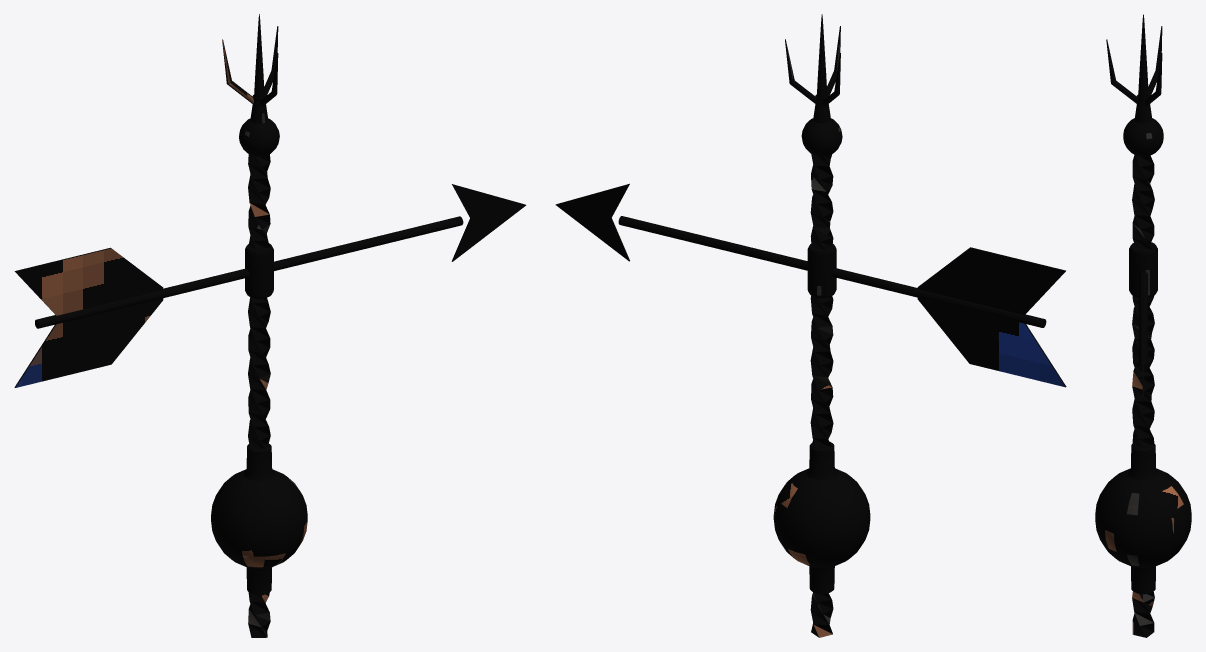
Rendered from upper.obj.
3 views of the same model, side by side, from view 1: azimuth 30°, elevation 25°; view 2: azimuth 150°, elevation 25°; view 3: azimuth 270°, elevation 25° (orthographic).
Visible parts, largest first — view 1: arrow_tail, ball, rod_upper, arrow_shaft, arrow_head, vane_collar, knob, sleeve_1, rod_mid; view 2: arrow_tail, ball, rod_upper, arrow_shaft, arrow_head, vane_collar, knob, sleeve_1, rod_mid; view 3: ball, rod_upper, vane_collar, knob, rod_mid, sleeve_1, arrow_shaft, sleeve_-1, spike, neck, prong_1, prong_2 (+2 smaller).
Part boxes in pixels (x1,y1,x2,y2): arrow_tail: [14, 247, 163, 387]; ball: [211, 469, 307, 568]; rod_upper: [248, 154, 270, 449]; arrow_shaft: [35, 216, 463, 328]; arrow_head: [451, 184, 526, 261]; vane_collar: [245, 243, 273, 298]; knob: [239, 118, 279, 156]; sleeve_1: [243, 443, 274, 480]; rod_mid: [248, 592, 270, 637]; arrow_tail: [917, 247, 1066, 387]; ball: [773, 468, 870, 567]; rod_upper: [810, 154, 833, 448]; arrow_shaft: [618, 216, 1046, 327]; arrow_head: [555, 183, 629, 261]; vane_collar: [807, 243, 836, 297]; knob: [801, 118, 842, 156]; sleeve_1: [806, 442, 837, 480]; rod_mid: [810, 592, 833, 637]; ball: [1095, 468, 1191, 567]; rod_upper: [1132, 154, 1154, 449]; vane_collar: [1129, 242, 1157, 297]; knob: [1123, 118, 1163, 156]; rod_mid: [1132, 591, 1154, 637]; sleeve_1: [1128, 444, 1158, 479]; arrow_shaft: [1139, 271, 1147, 371]; sleeve_-1: [1131, 566, 1155, 594]; spike: [1138, 14, 1148, 98]; neck: [1134, 94, 1152, 123]; prong_1: [1106, 39, 1137, 103]; prong_2: [1148, 26, 1162, 95].
Bounding box in the file's own units: 0.69 × 0.8 × 0.113.
